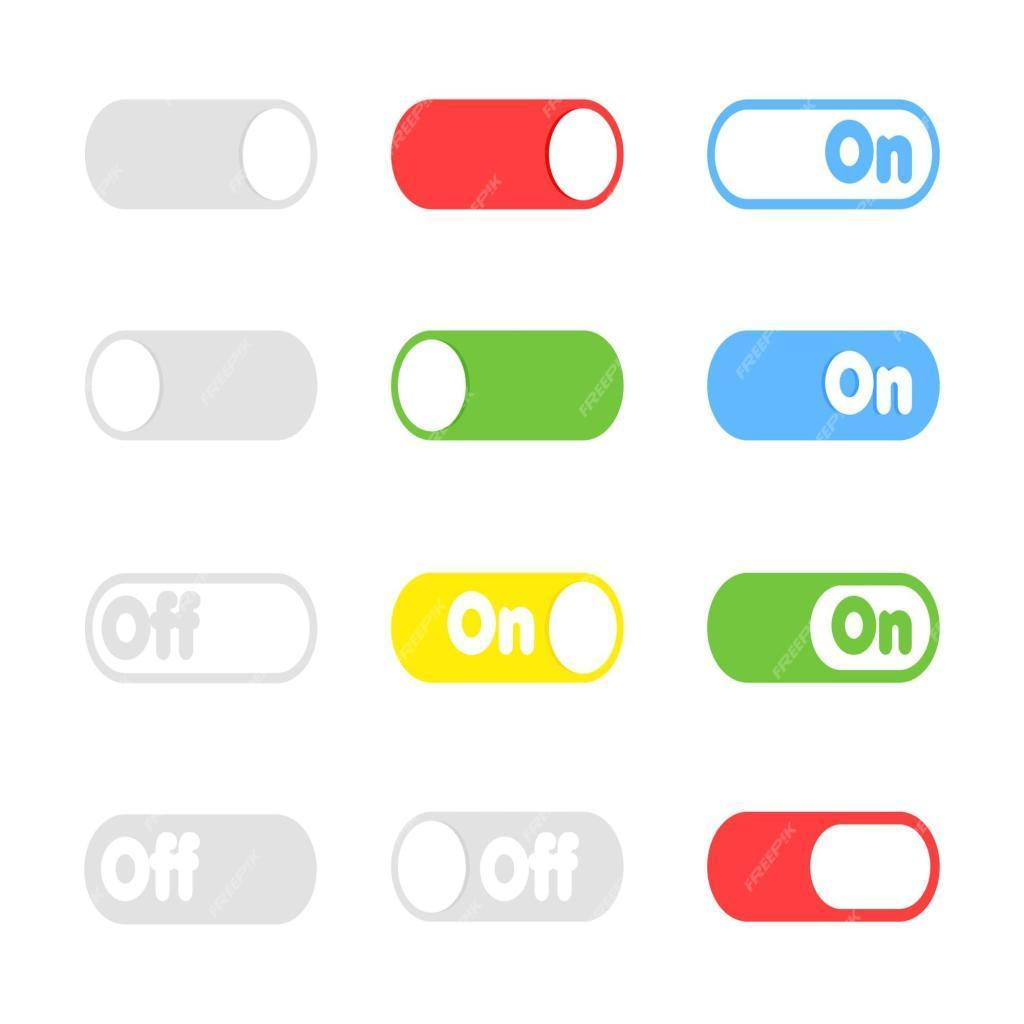switch: (84, 329, 319, 443), (391, 573, 626, 685), (86, 100, 321, 212), (706, 812, 940, 924), (391, 99, 624, 211), (393, 812, 624, 924), (392, 331, 624, 441), (708, 575, 942, 683)
